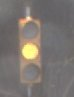Yellow: (16, 13, 43, 87)
